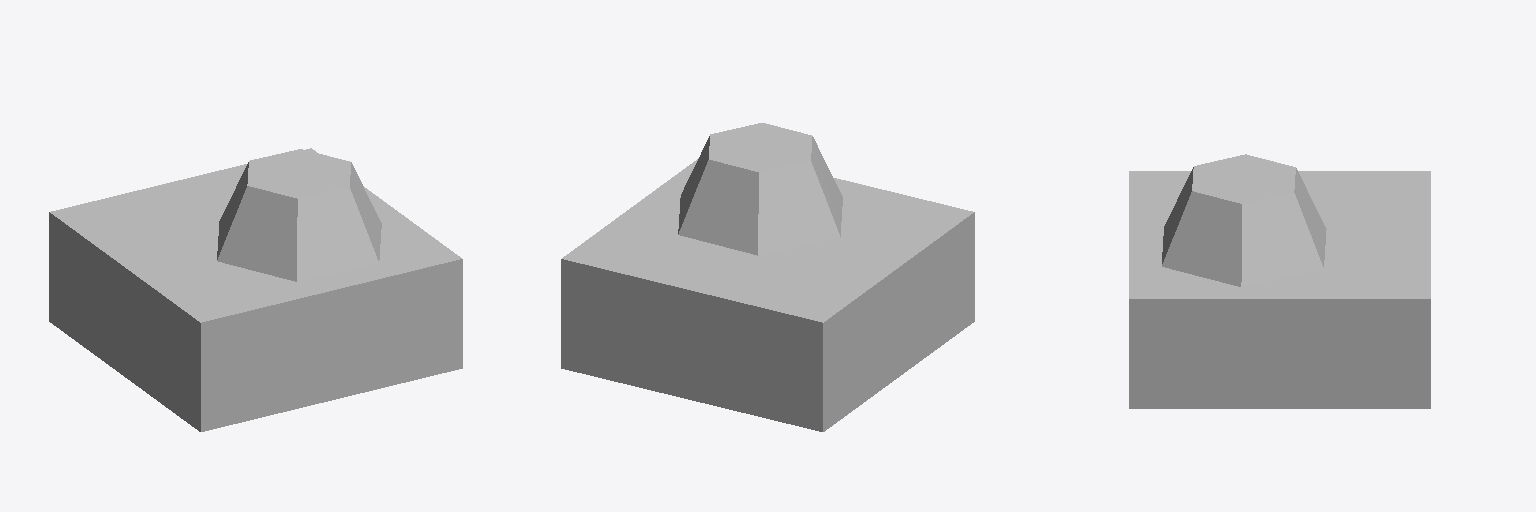
File: towerDefense_078.obj
The picture shows the model from 3 angles: view 1: azimuth 30°, elevation 25°; view 2: azimuth 150°, elevation 25°; view 3: azimuth 270°, elevation 25°; orthographic projection.
Visible parts, largest first — view 1: Mesh2 Group1 Model, Mesh1 Group2 Group1 Model; view 2: Mesh2 Group1 Model, Mesh1 Group2 Group1 Model; view 3: Mesh2 Group1 Model, Mesh1 Group2 Group1 Model.
Part boxes in pixels (bbox=[...]): Mesh2 Group1 Model: bbox=[49, 148, 462, 431]; Mesh1 Group2 Group1 Model: bbox=[217, 149, 381, 281]; Mesh2 Group1 Model: bbox=[561, 158, 974, 431]; Mesh1 Group2 Group1 Model: bbox=[678, 123, 842, 255]; Mesh2 Group1 Model: bbox=[1129, 171, 1430, 408]; Mesh1 Group2 Group1 Model: bbox=[1162, 154, 1326, 286].
Bounding box in the file's own units: 1 × 0.65 × 1.